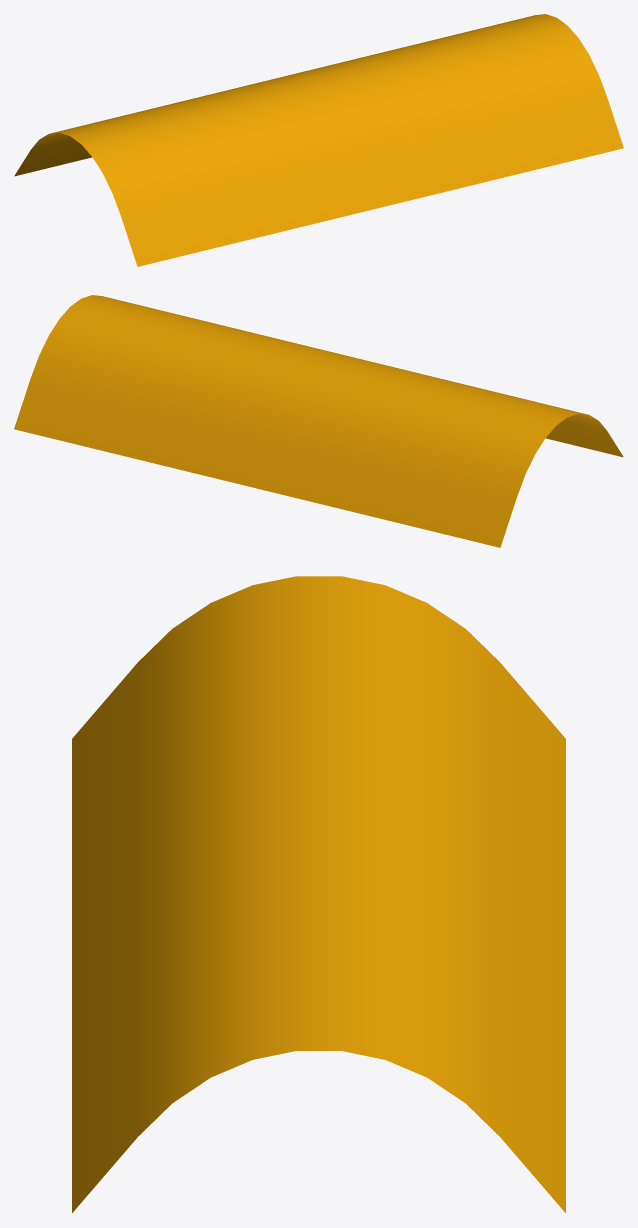
File: Hill_3.fbx
3 views of the same model, one above another, from view 1: azimuth 30°, elevation 25°; view 2: azimuth 150°, elevation 25°; view 3: azimuth 270°, elevation 25° (orthographic). The views are drawn at different scales.
Visible parts, largest first — view 1: Hill_3; view 2: Hill_3; view 3: Hill_3.
Boxes of the visible parts, x1,y1,x2,y2 form: Hill_3: (14,14,623,266); Hill_3: (14,295,623,547); Hill_3: (72,576,565,1212).
Size of the model in its own units: 2500 by 400 by 1100.
